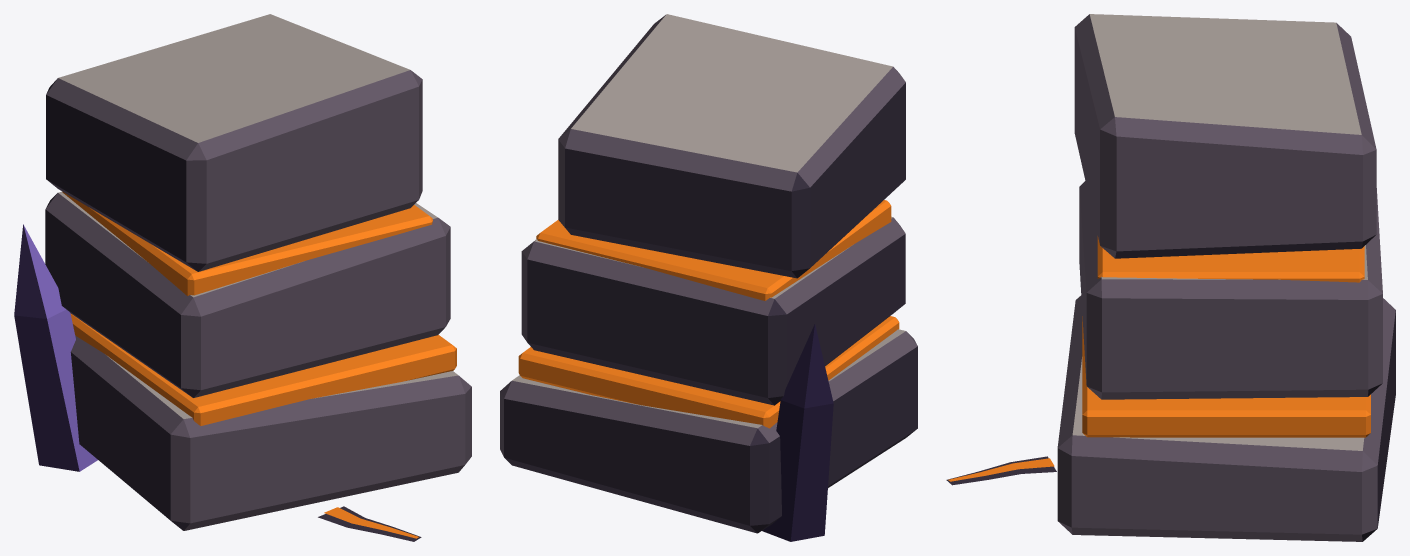
File: BasaltSlabsB.fbx
The picture shows the model from 3 angles, left to right: view 1: azimuth 30°, elevation 25°; view 2: azimuth 150°, elevation 25°; view 3: azimuth 270°, elevation 25°; orthographic projection. The views are drawn at different scales.
Visible parts, largest first — view 1: BasaltSlabsB; view 2: BasaltSlabsB; view 3: BasaltSlabsB.
Part boxes in pixels (x1,y1,x2,y2): BasaltSlabsB: (14, 14, 471, 541); BasaltSlabsB: (500, 14, 917, 541); BasaltSlabsB: (946, 14, 1395, 541).
Bounding box in the file's own units: 1.61 × 1.83 × 1.79.
2 materials, 2 textured.
